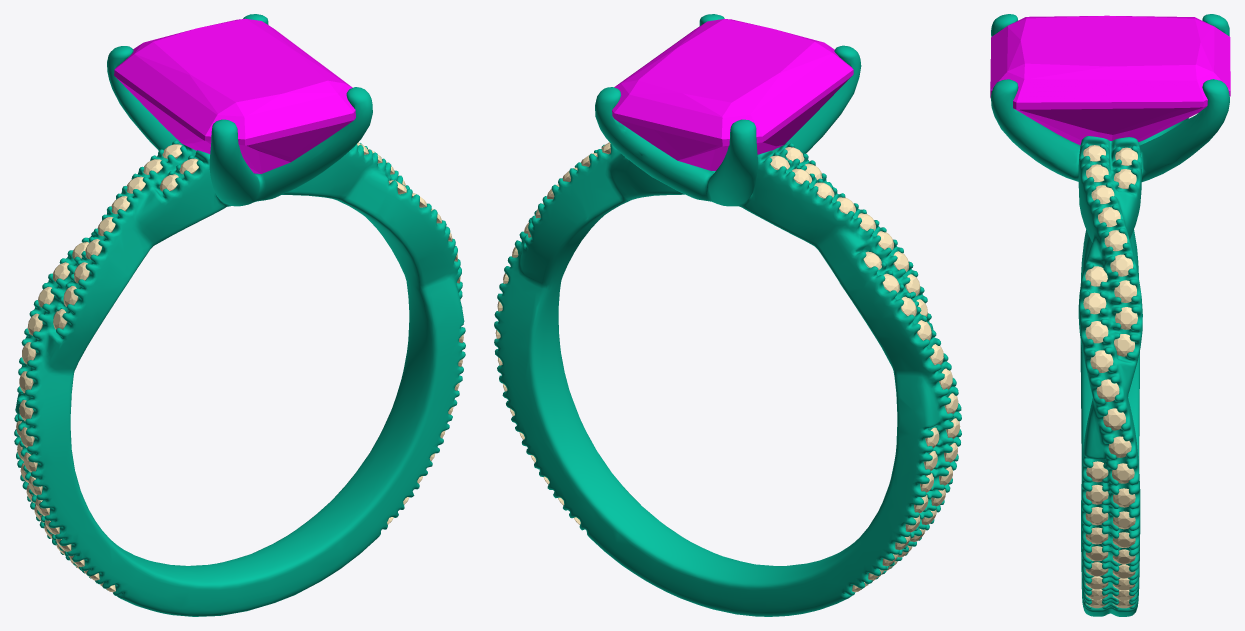
The model's file is BE1M55D_RA_200ct_RENDER.glb.
3 views of the same model, side by side, from view 1: azimuth 30°, elevation 25°; view 2: azimuth 150°, elevation 25°; view 3: azimuth 270°, elevation 25° (orthographic).
Parts seen in each view (by area): view 1: Metal 01, CS_Diamond_Radiant; view 2: Metal 01, CS_Diamond_Radiant; view 3: Metal 01, CS_Diamond_Radiant, Diamond_Round_Gem_SH.059, Diamond_Round_Gem_SH.058, Diamond_Round_Gem_SH.060, Diamond_Round_Gem_SH.044, Diamond_Round_Gem_SH.057, Diamond_Round_Gem_SH.043, Diamond_Round_Gem_SH.045, Diamond_Round_Gem_SH.061, Diamond_Round_Gem_SH.056, Diamond_Round_Gem_SH.042 (+3 smaller).
Boxes of the visible parts, <box> form: Metal 01: <box>14,14,465,616</box>; CS_Diamond_Radiant: <box>114,18,355,173</box>; Metal 01: <box>494,14,961,616</box>; CS_Diamond_Radiant: <box>612,19,853,170</box>; Metal 01: <box>991,14,1229,616</box>; CS_Diamond_Radiant: <box>990,15,1230,145</box>; Diamond_Round_Gem_SH.059: <box>1090,350,1113,372</box>; Diamond_Round_Gem_SH.058: <box>1096,379,1119,401</box>; Diamond_Round_Gem_SH.060: <box>1085,321,1108,343</box>; Diamond_Round_Gem_SH.044: <box>1114,280,1136,302</box>; Diamond_Round_Gem_SH.057: <box>1103,408,1125,430</box>; Diamond_Round_Gem_SH.043: <box>1110,254,1133,276</box>; Diamond_Round_Gem_SH.045: <box>1115,307,1137,329</box>; Diamond_Round_Gem_SH.061: <box>1083,292,1106,314</box>; Diamond_Round_Gem_SH.056: <box>1108,436,1131,457</box>; Diamond_Round_Gem_SH.042: <box>1104,230,1127,251</box>.
Size of the model in its own units: 20.69 by 24.04 by 9.49.
